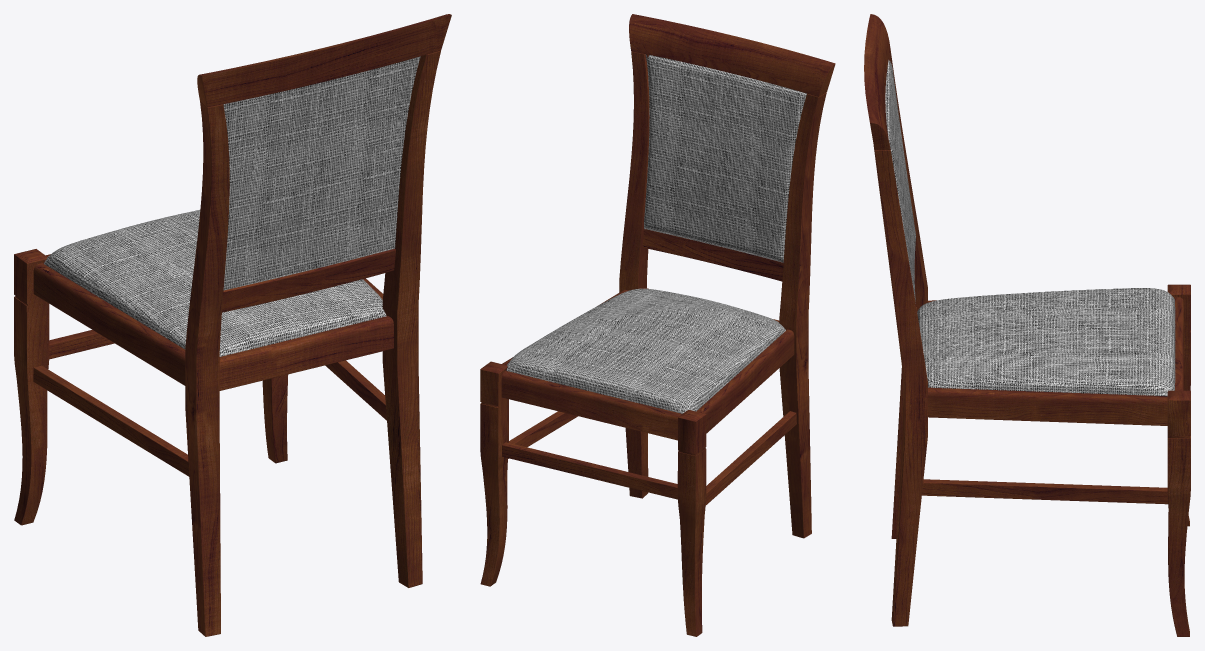
File: kitchen_chair.fbx
3 views of the same model, side by side, from view 1: azimuth 30°, elevation 25°; view 2: azimuth 150°, elevation 25°; view 3: azimuth 270°, elevation 25° (orthographic). The views are drawn at different scales.
Parts seen in each view (by area): view 1: table&chair_Akacia_02; view 2: table&chair_Akacia_02; view 3: table&chair_Akacia_02.
Boxes of the visible parts, <box> form: table&chair_Akacia_02: <box>14,14,451,636</box>; table&chair_Akacia_02: <box>480,14,835,636</box>; table&chair_Akacia_02: <box>864,14,1190,636</box>.
Size of the model in its own units: 191 by 394 by 228.
